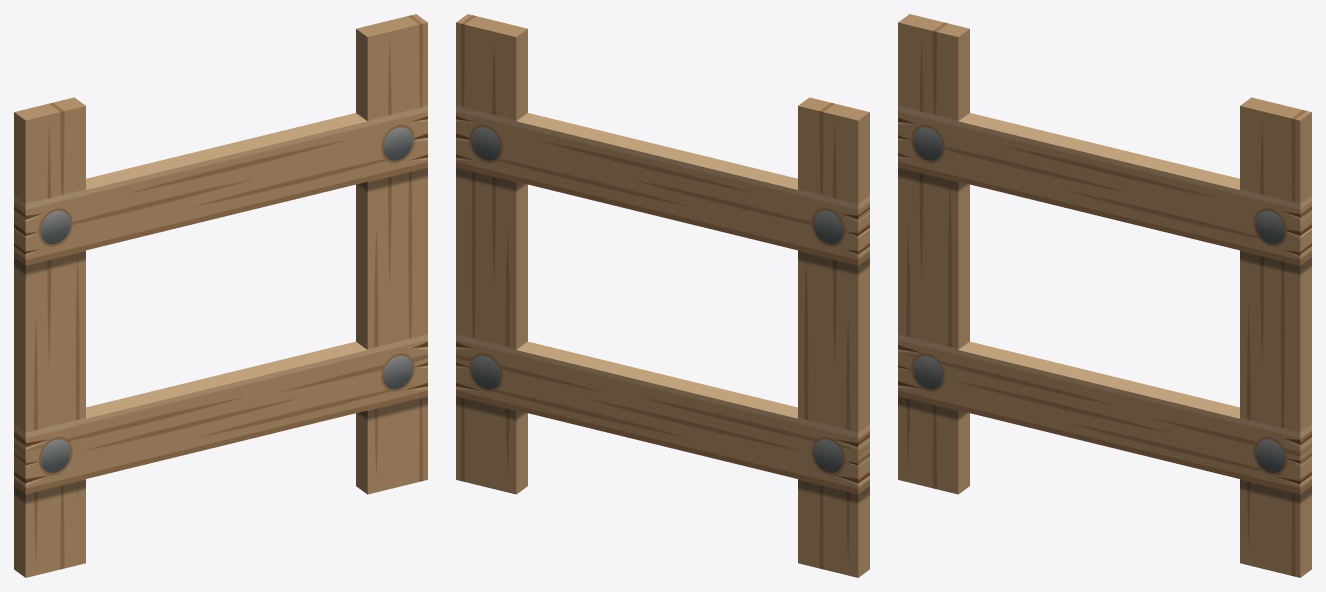
Rendered from ladder.fbx.
The picture shows the model from 3 angles, left to right: view 1: azimuth 30°, elevation 25°; view 2: azimuth 150°, elevation 25°; view 3: azimuth 330°, elevation 25°; orthographic projection.
Parts seen in each view (by area): view 1: Plane; view 2: Plane; view 3: Plane.
Part boxes in pixels (x1,y1,x2,y2): Plane: [14, 14, 427, 577]; Plane: [456, 14, 869, 577]; Plane: [898, 14, 1311, 577].
Size of the model in its own units: 200 by 217 by 10.
